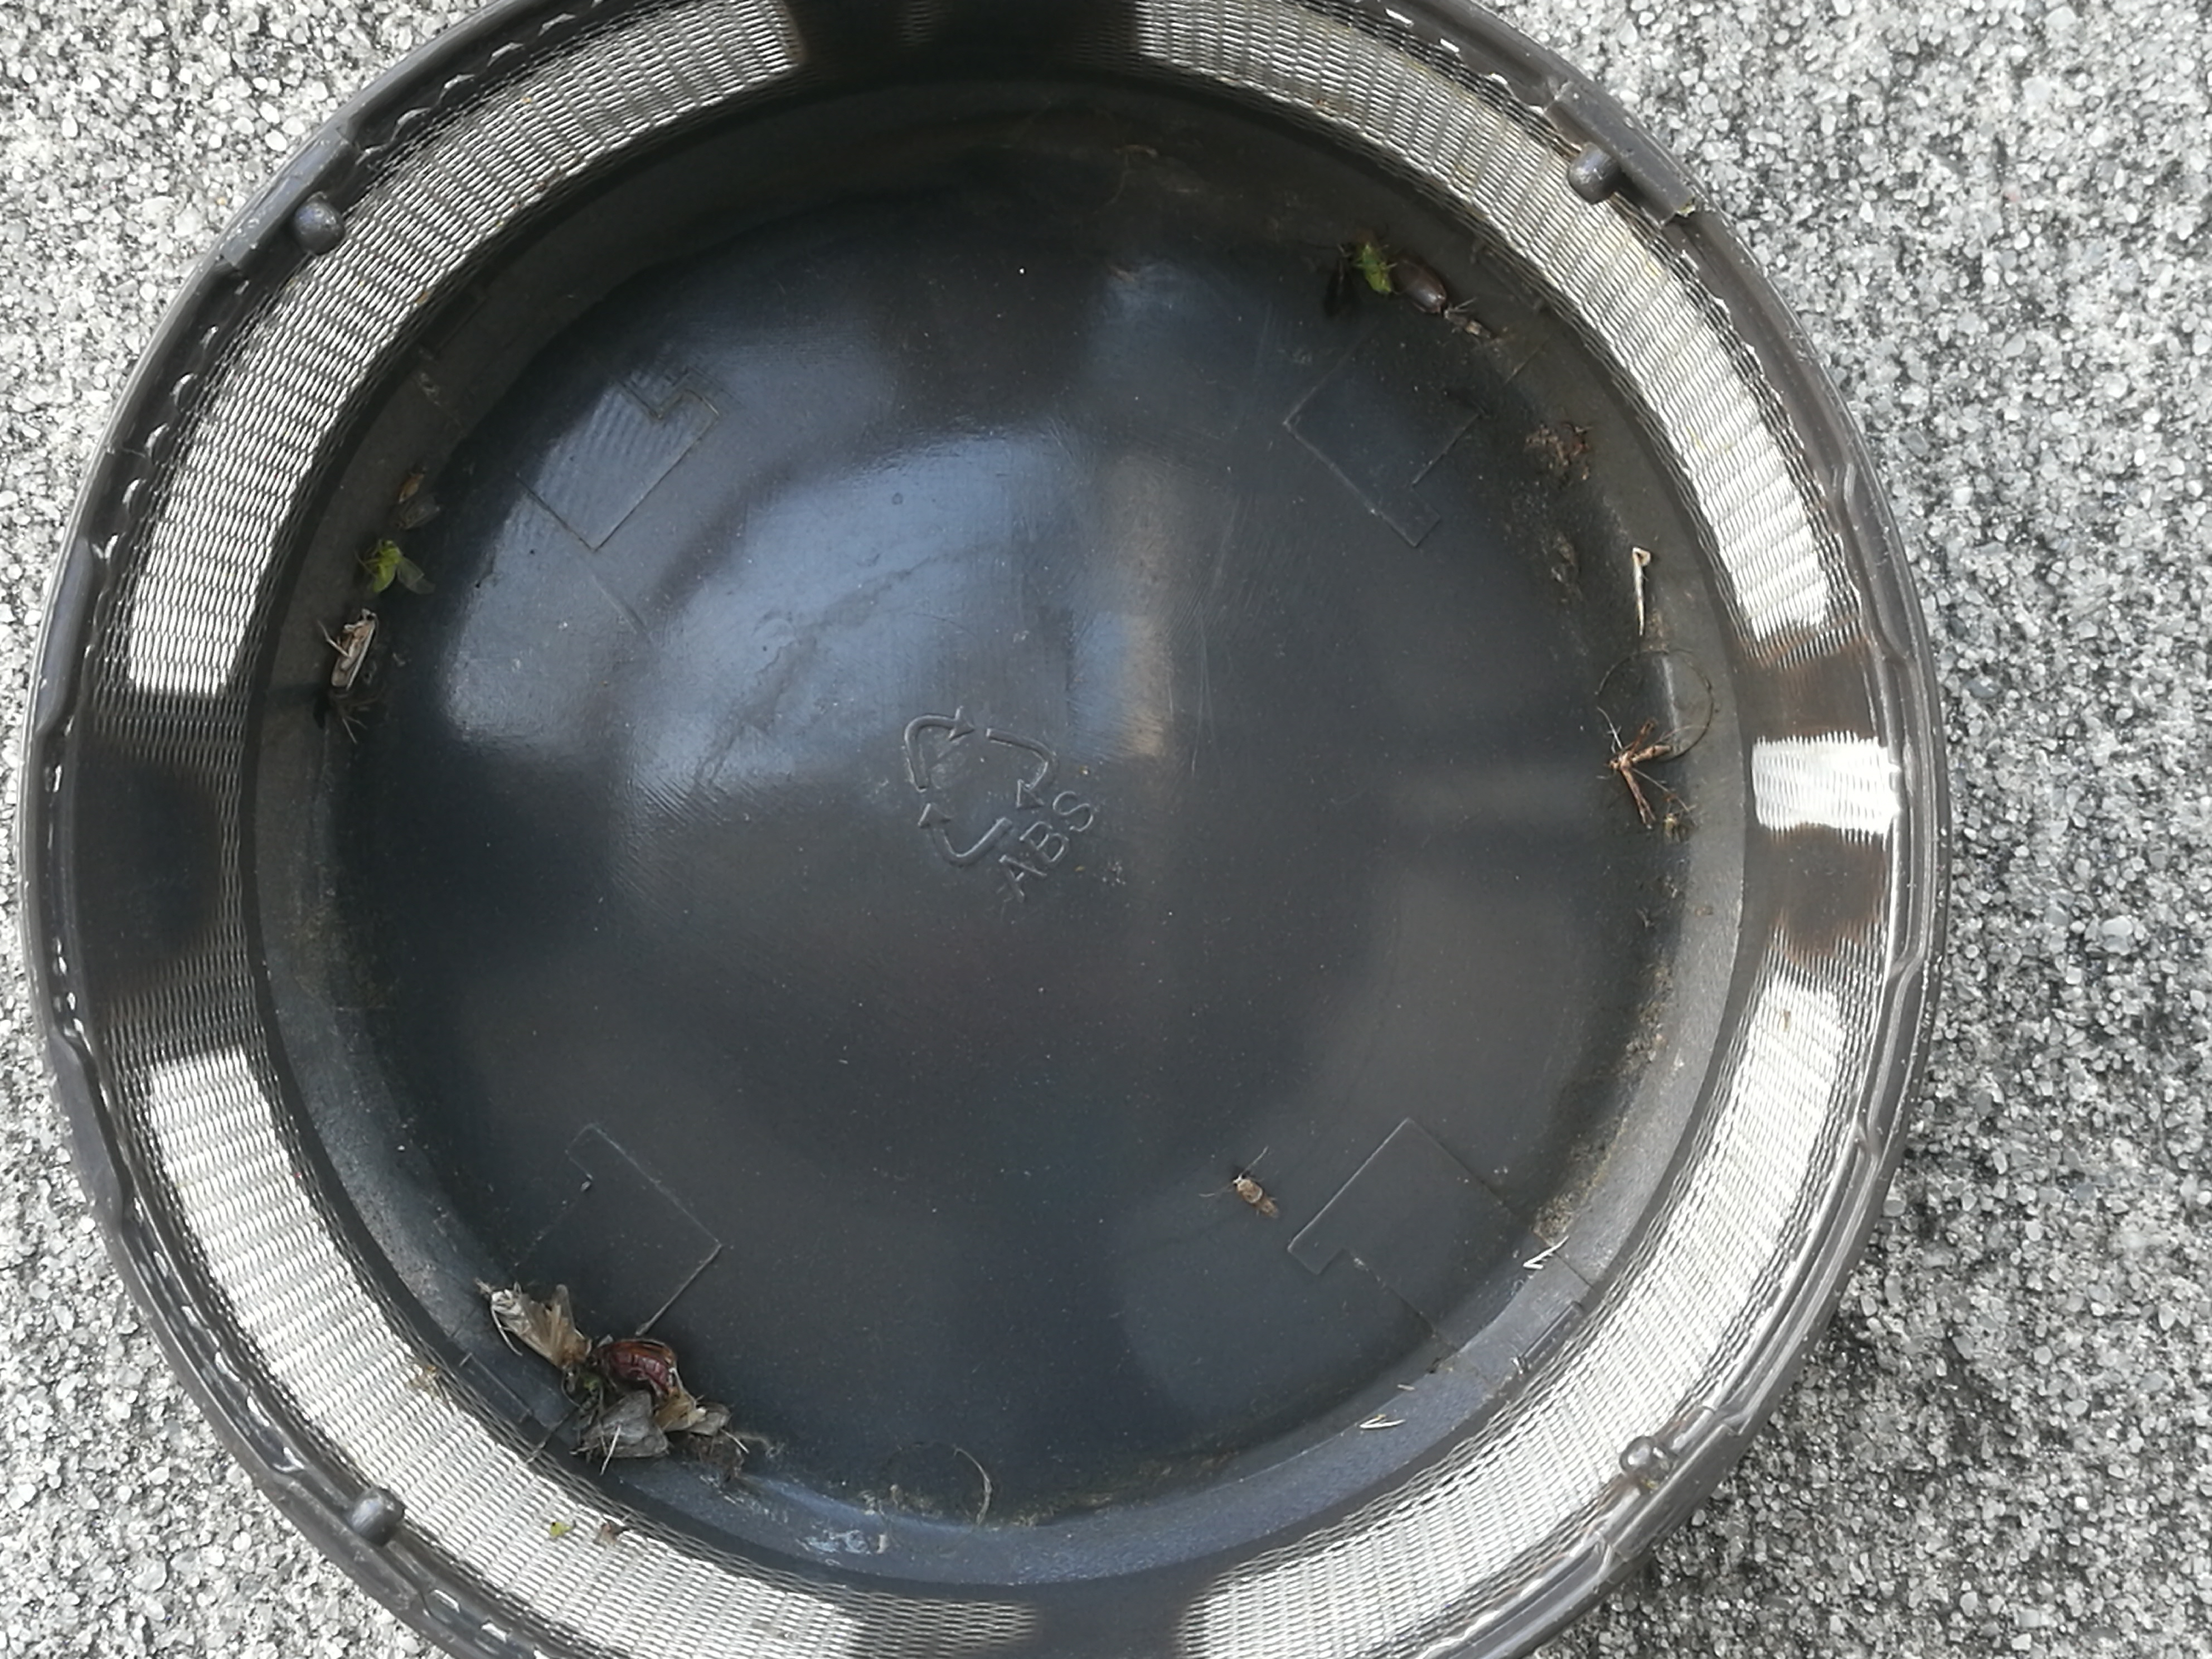beetle: (566, 1347, 672, 1405)
mosquito: (477, 1279, 590, 1363), (329, 608, 374, 687)
moth: (577, 1391, 671, 1457)
